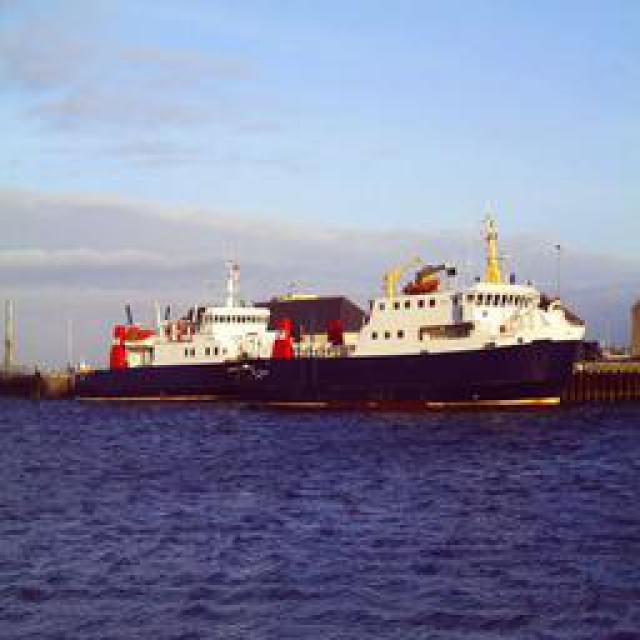Ship: (78, 221, 603, 411)
